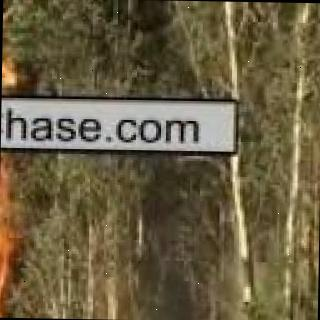fire: (0, 157, 10, 317), (1, 5, 17, 94)
